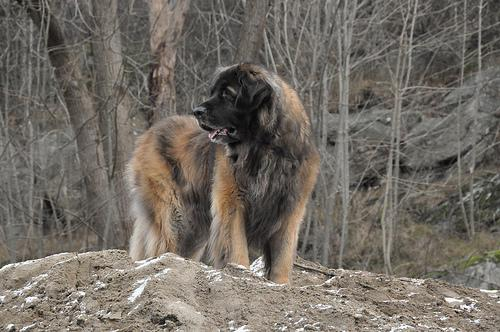dog-leonberger: (192, 61, 271, 141)
